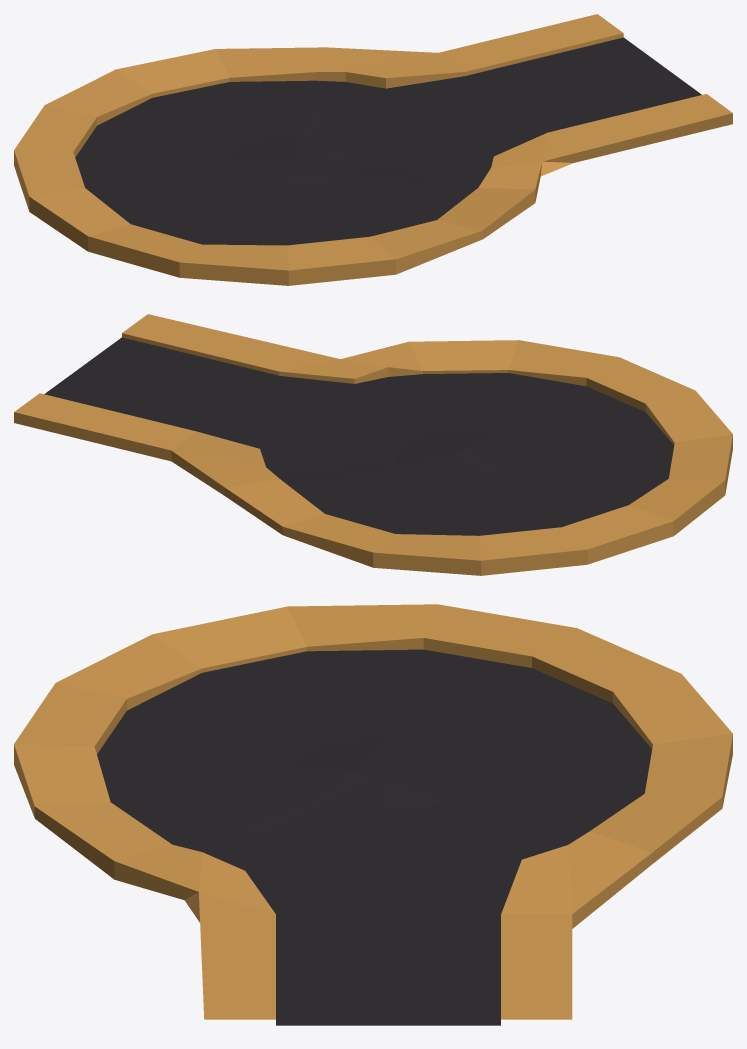
File: culdesac.fbx
3 renders of one model, top to bottom at view 1: azimuth 30°, elevation 25°; view 2: azimuth 150°, elevation 25°; view 3: azimuth 270°, elevation 25°, orthographic. The views are drawn at different scales.
Parts seen in each view (by area): view 1: Cube.000; view 2: Cube.000; view 3: Cube.000.
Part boxes in pixels (bbox=[...]): Cube.000: bbox=[14, 14, 732, 285]; Cube.000: bbox=[14, 314, 732, 575]; Cube.000: bbox=[14, 604, 732, 1025].
Bounding box in the file's own units: 1303 × 33.28 × 967.
